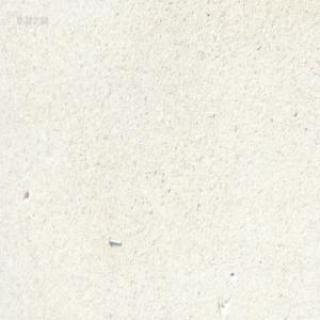Nailtrack_idkeyframe: (105, 235, 122, 245)
